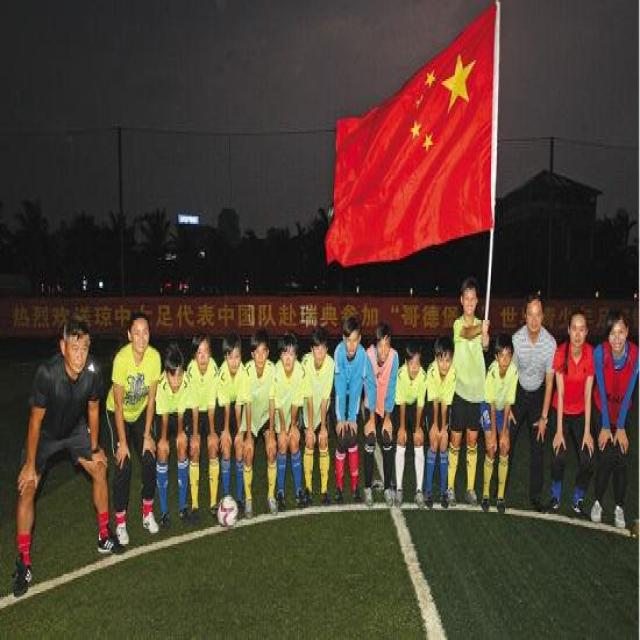non-fight: (10, 314, 119, 598), (105, 306, 167, 550), (500, 289, 560, 515), (587, 302, 640, 539), (442, 279, 492, 512), (153, 342, 196, 532), (238, 335, 281, 517), (184, 336, 226, 518), (270, 331, 311, 514), (331, 314, 370, 502), (391, 344, 432, 509)
